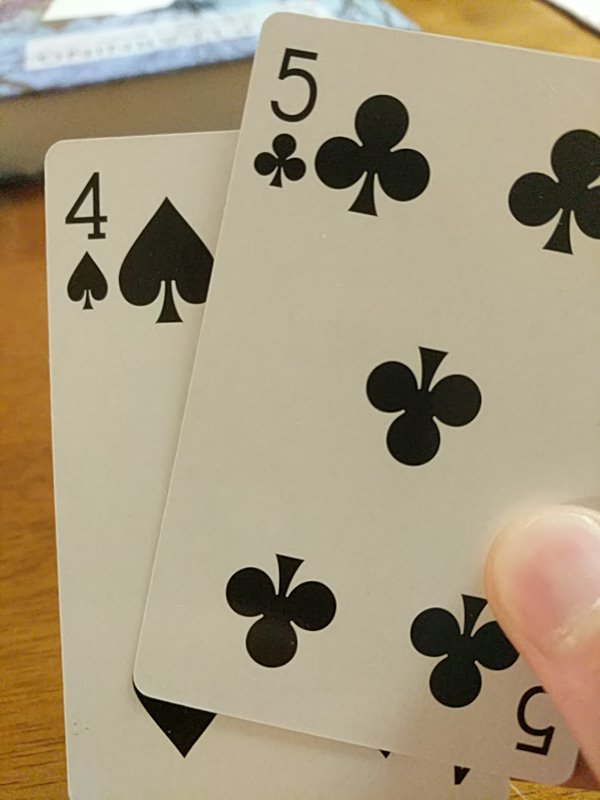Clubs: (133, 7, 600, 783)
Spades: (47, 139, 512, 800)
